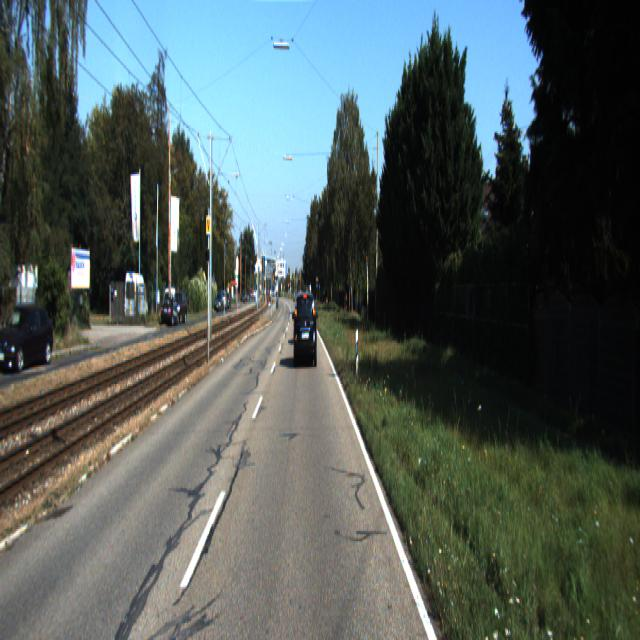Car: (0, 303, 53, 375), (294, 290, 318, 369), (124, 273, 150, 326), (161, 296, 181, 327)
